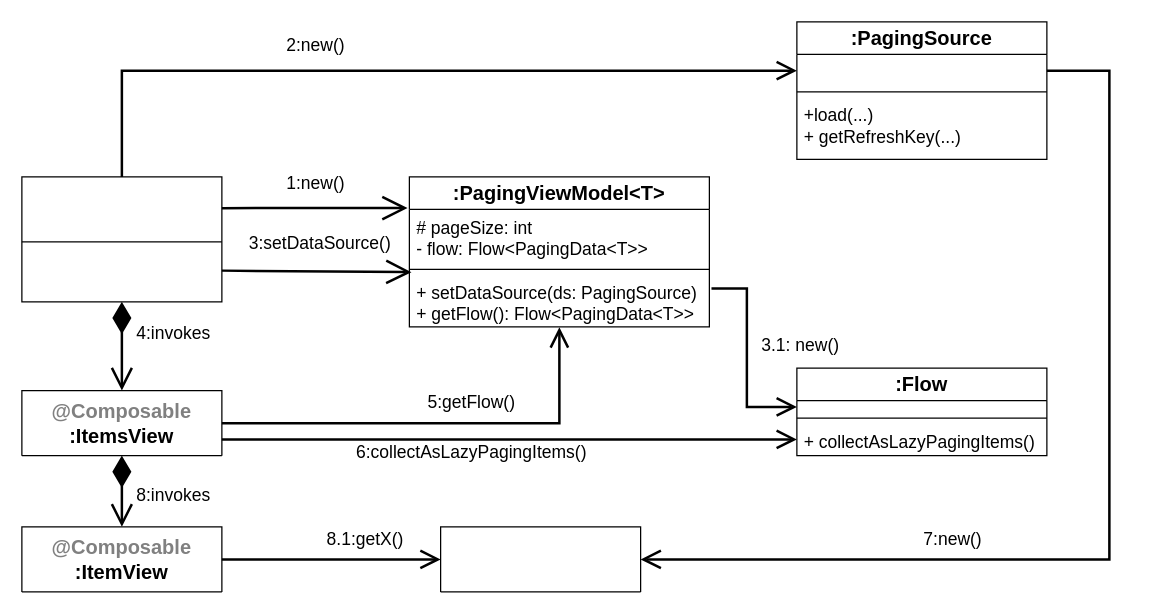
This 1150x614 diagram has some shape labels left out. Each missing label, with the centre of its shape:
@Composable :Screen: the point at 121,239
@data Item: the point at 540,559
